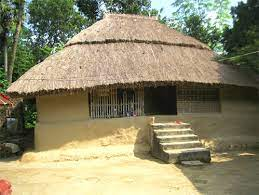Mud House: (18, 12, 246, 157)
